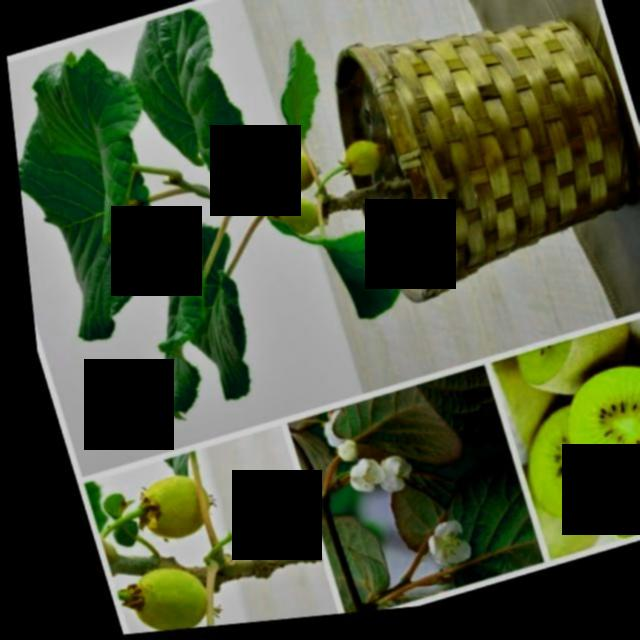kiwi: (112, 559, 202, 635), (120, 470, 207, 548), (241, 487, 302, 553), (259, 196, 319, 247), (264, 153, 315, 203), (336, 143, 384, 187)
